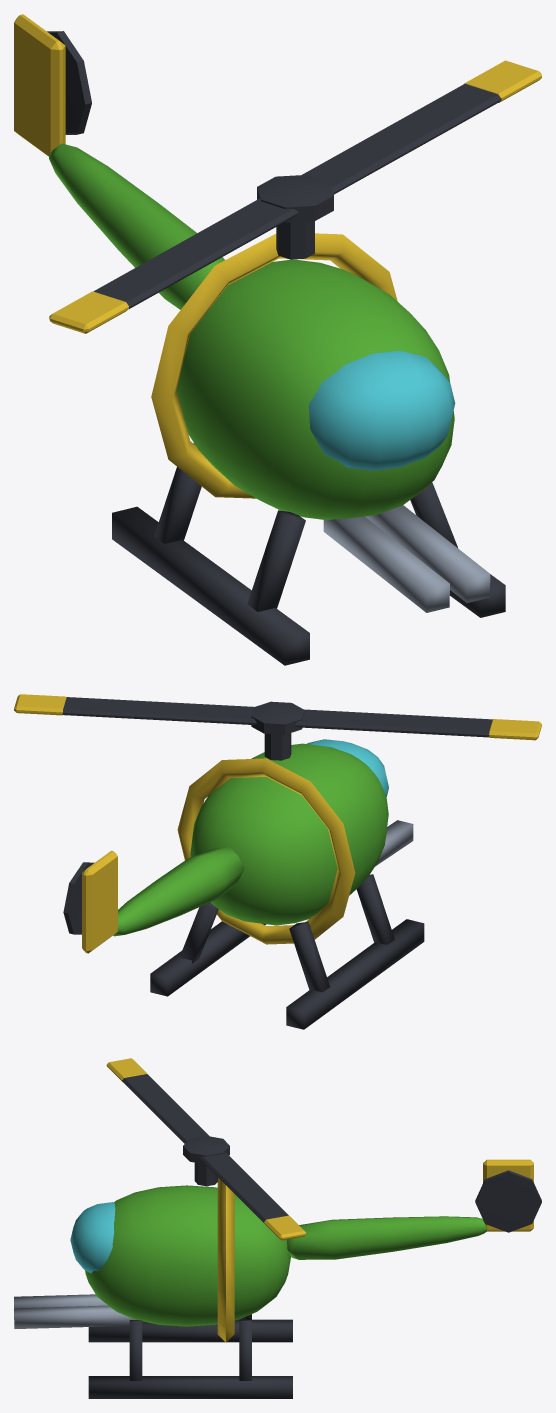
3 renders of one model, top to bottom at view 1: azimuth 30°, elevation 25°; view 2: azimuth 150°, elevation 25°; view 3: azimuth 270°, elevation 25°, orthographic. The views are drawn at different scales.
Parts seen in each view (by area): view 1: heli_0_base, heli_1_torreta; view 2: heli_0_base, heli_1_torreta; view 3: heli_0_base, heli_1_torreta.
Boxes of the visible parts, x1,y1,x2,y2 form: heli_0_base: (14,14,505,665); heli_1_torreta: (49,60,541,333); heli_0_base: (63,739,424,1029); heli_1_torreta: (14,694,541,760); heli_0_base: (14,1159,541,1398); heli_1_torreta: (106,1058,306,1240).
Bounding box in the file's own units: 1.08 × 0.632 × 1.35.
